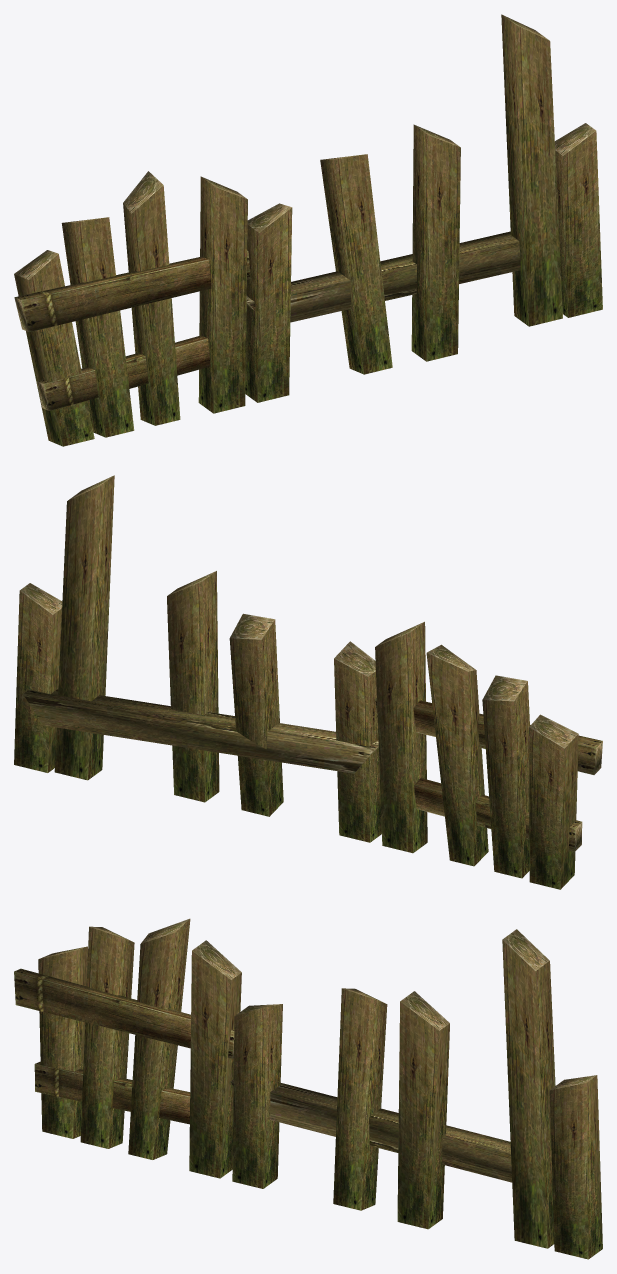
The model's file is S_Build_Cbcl011.FBX.
3 renders of one model, top to bottom at view 1: azimuth 30°, elevation 25°; view 2: azimuth 150°, elevation 25°; view 3: azimuth 330°, elevation 25°, orthographic. The views are drawn at different scales.
Parts seen in each view (by area): view 1: S_Build_Cbcl011; view 2: S_Build_Cbcl011; view 3: S_Build_Cbcl011.
Boxes of the visible parts, <box> form: S_Build_Cbcl011: <box>14,14,602,446</box>; S_Build_Cbcl011: <box>14,475,602,889</box>; S_Build_Cbcl011: <box>14,918,602,1259</box>.
Size of the model in its own units: 727 by 75.94 by 365.
